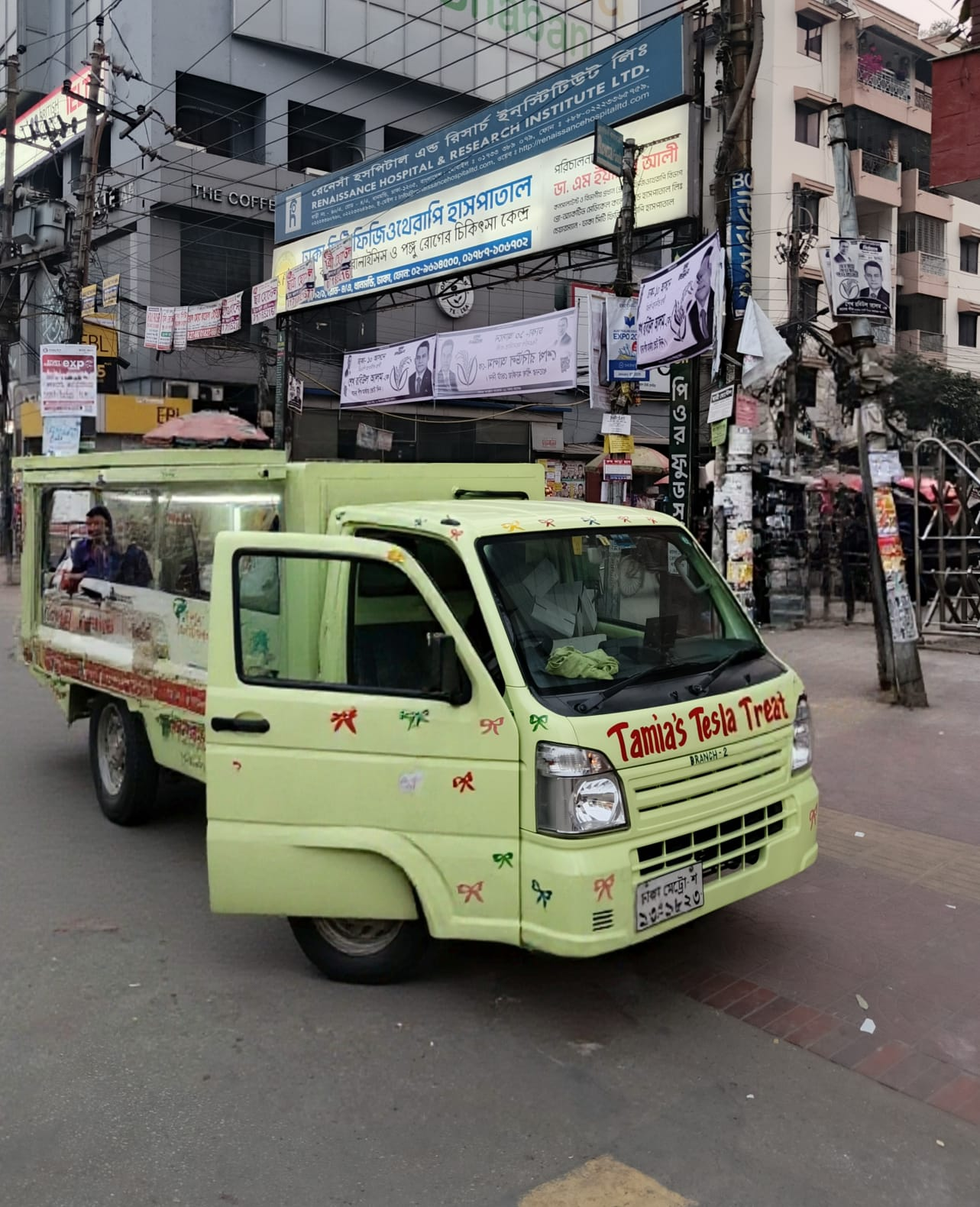Pickup: (0, 414, 835, 1003)
